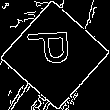P_E: (29, 35, 81, 75)
